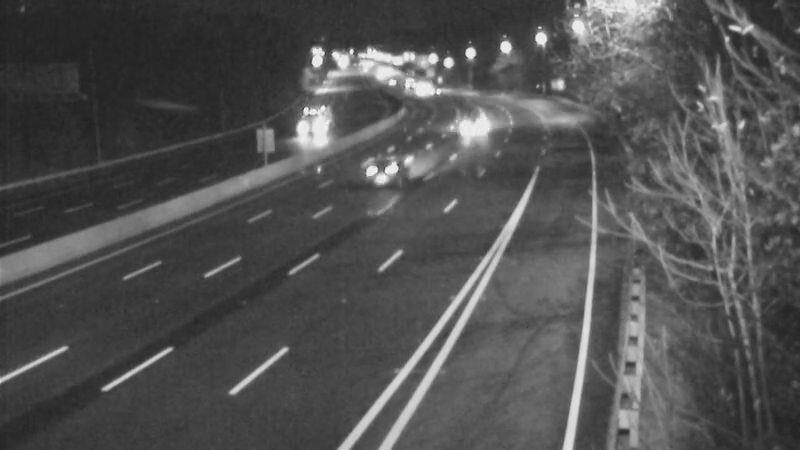vehicle: (352, 132, 432, 212), (403, 61, 453, 111), (442, 99, 492, 149), (289, 108, 339, 158)
